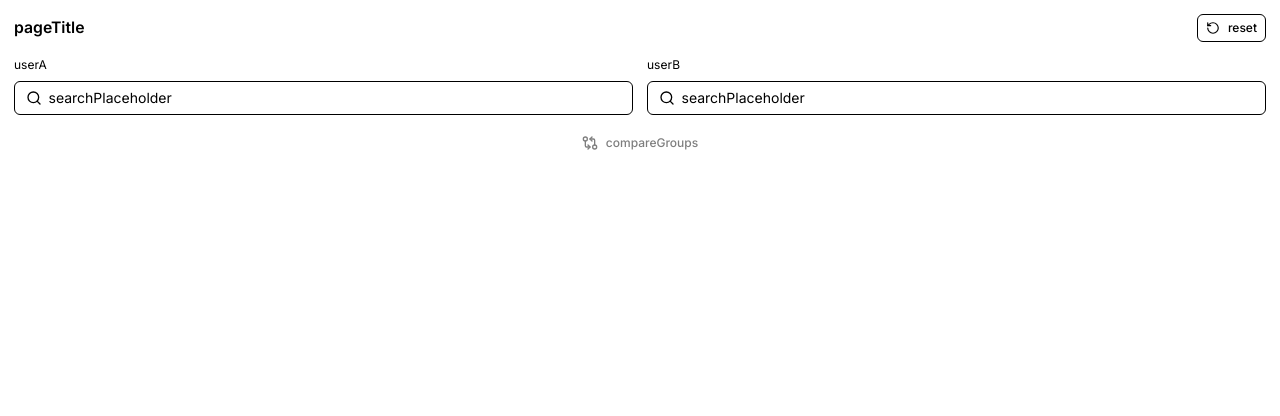
Test: UserComparison › displays error when comparison fails
This screenshot has width=1280, height=416.
// Select both users
Step 1. Type "jdoe" into the field with test id "user-a-input" → (335, 98), box [48,87,622,108]
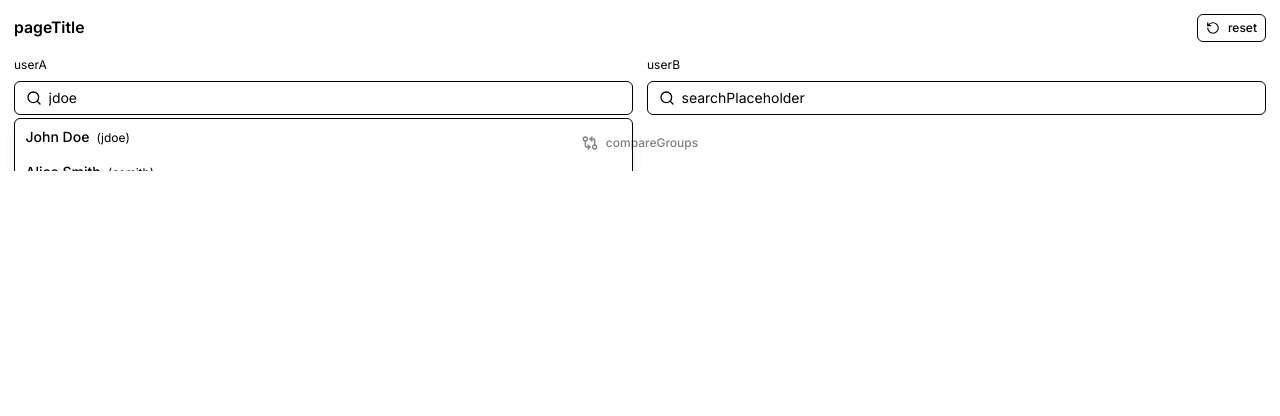
Expected: the element with test id "user-a-dropdown" is shown, [14,118,633,170]
Step 2. Press the mouse on the button with test id "user-a-result-jdoe" → (57, 136), box [15,119,632,154]
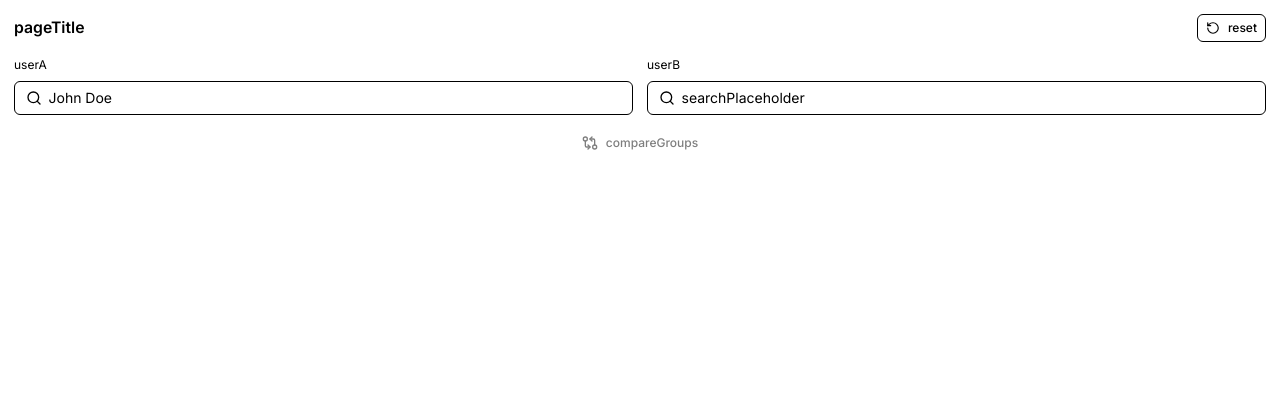
Step 3. Type "asmith" into the field with test id "user-b-input" → (968, 98), box [682,87,1254,108]
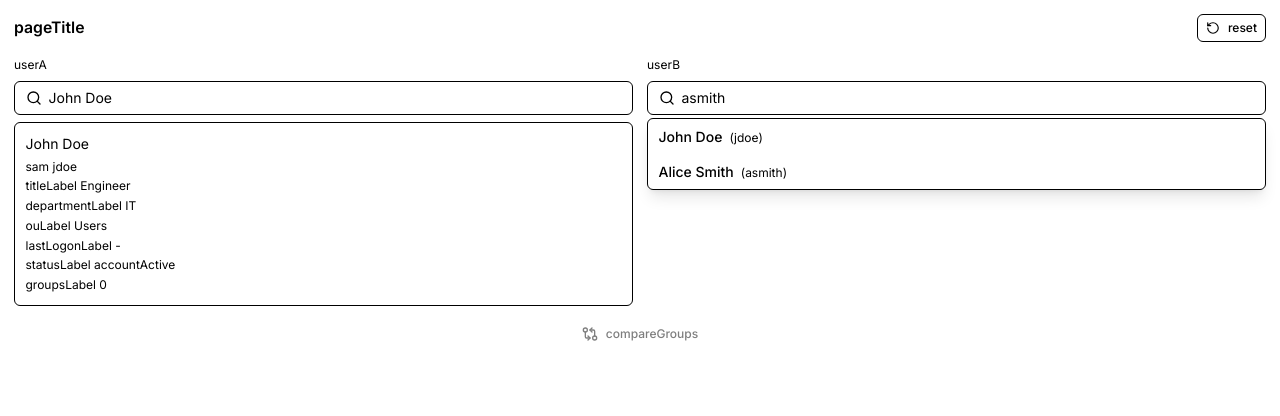
Expected: the element with test id "user-b-dropdown" is shown, [647,118,1266,190]
Step 4. Press the mouse on the button with test id "user-b-result-asmith" → (696, 172), box [648,154,1265,189]
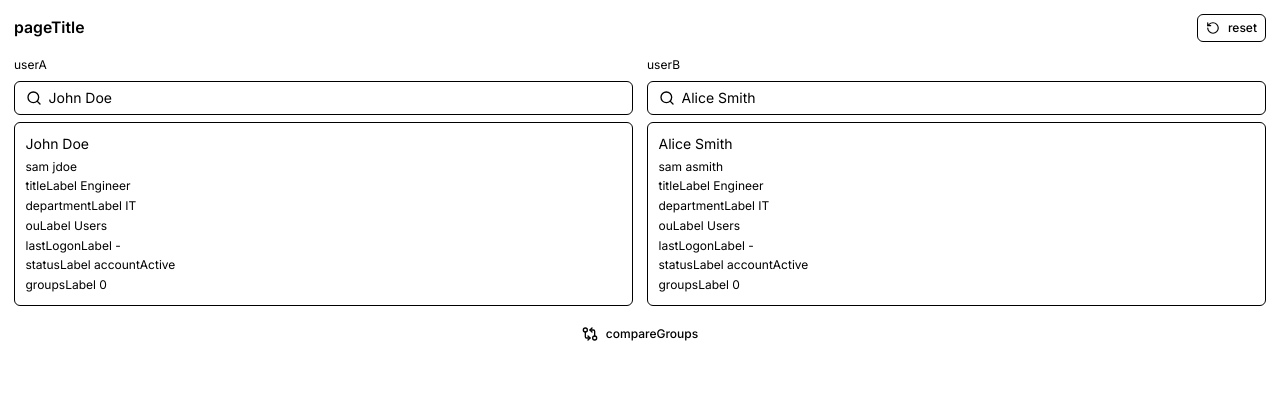
Expected: the element with test id "user-a-selected" is shown, [14,122,633,306]
Step 5. Click the button with test id "compare-button" → (640, 334), box [573,320,707,348]
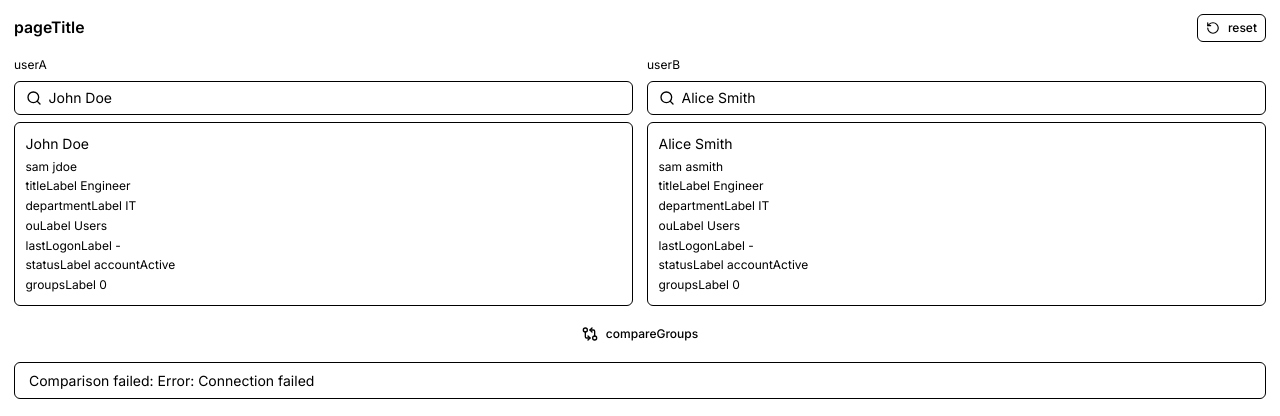
Expected: the text "Comparison failed: Error: Connection failed" is shown, [14,362,1266,398]
